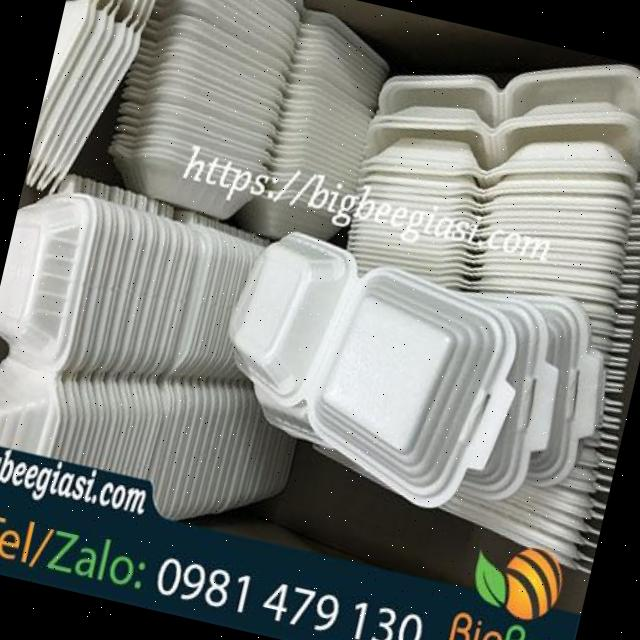styrofoam: (0, 0, 640, 609)
